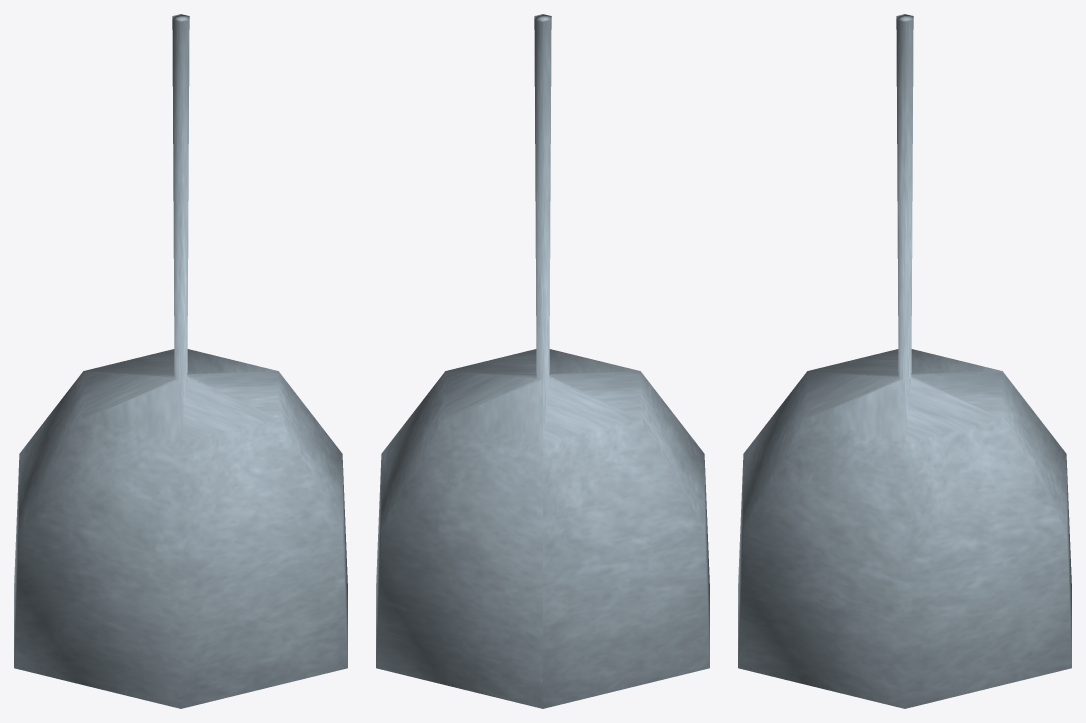
Rendered from BgMD_Light_pattern2.fbx.
3 views of the same model, side by side, from view 1: azimuth 30°, elevation 25°; view 2: azimuth 150°, elevation 25°; view 3: azimuth 270°, elevation 25° (orthographic).
Parts seen in each view (by area): view 1: BgMD_Light; view 2: BgMD_Light; view 3: BgMD_Light.
Boxes of the visible parts, x1,y1,x2,y2 form: BgMD_Light: [14, 14, 347, 708]; BgMD_Light: [376, 14, 709, 708]; BgMD_Light: [738, 14, 1071, 708].
Bounding box in the file's own units: 58.56 × 102 × 50.71.
